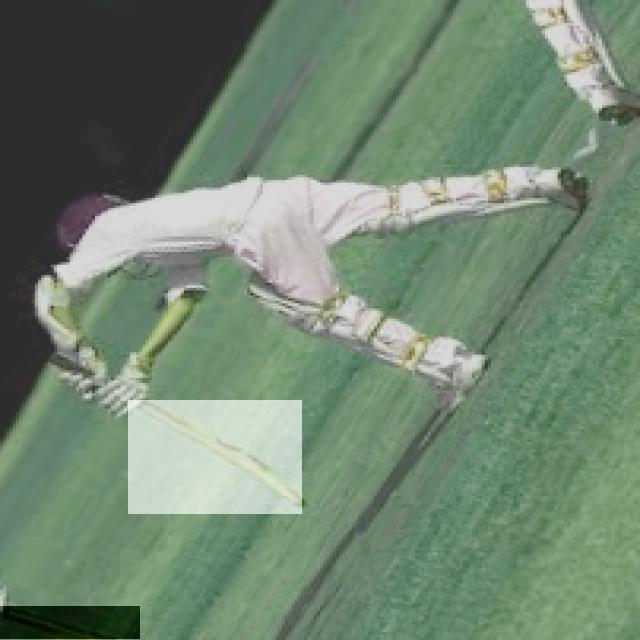bat: (128, 398, 324, 519)
toe: (271, 488, 311, 515)
